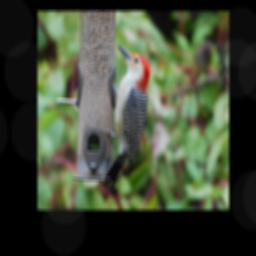Woodpecker: (100, 44, 151, 194)
